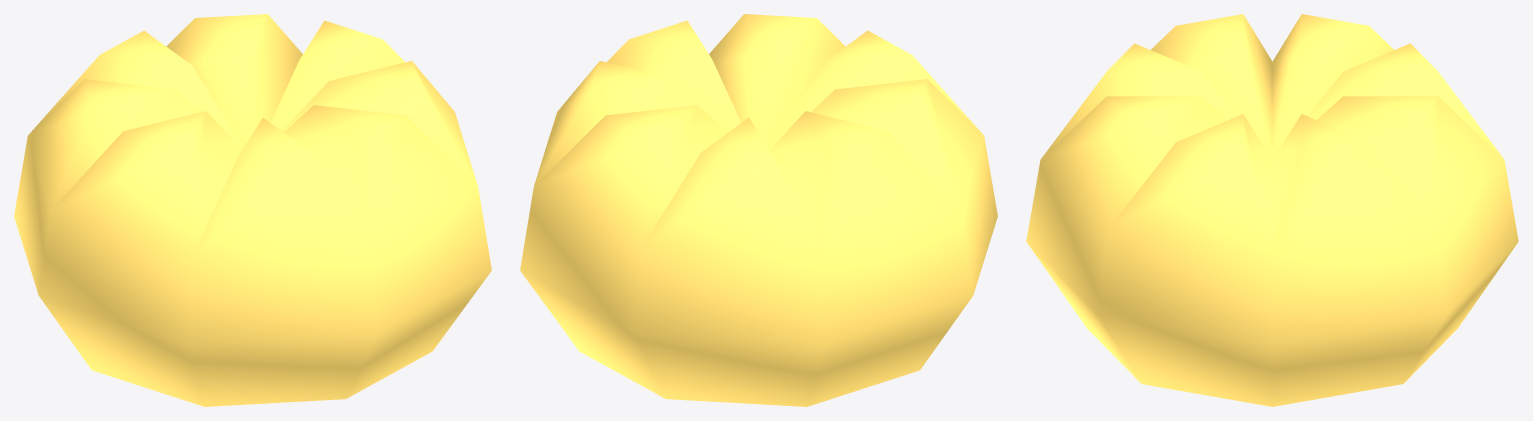
File: bush00.fbx
3 views of the same model, side by side, from view 1: azimuth 30°, elevation 25°; view 2: azimuth 150°, elevation 25°; view 3: azimuth 270°, elevation 25° (orthographic).
Visible parts, largest first — view 1: bush01; view 2: bush01; view 3: bush01.
Boxes of the visible parts, x1,y1,x2,y2 form: bush01: (14, 14, 491, 406); bush01: (520, 14, 997, 406); bush01: (1026, 14, 1518, 406).
Bounding box in the file's own units: 1.22 × 0.6672 × 1.22.
